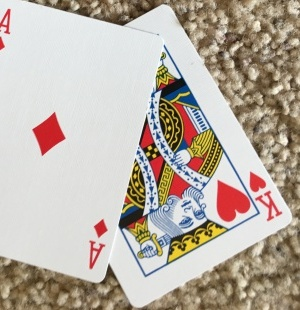card: (110, 5, 291, 305)
